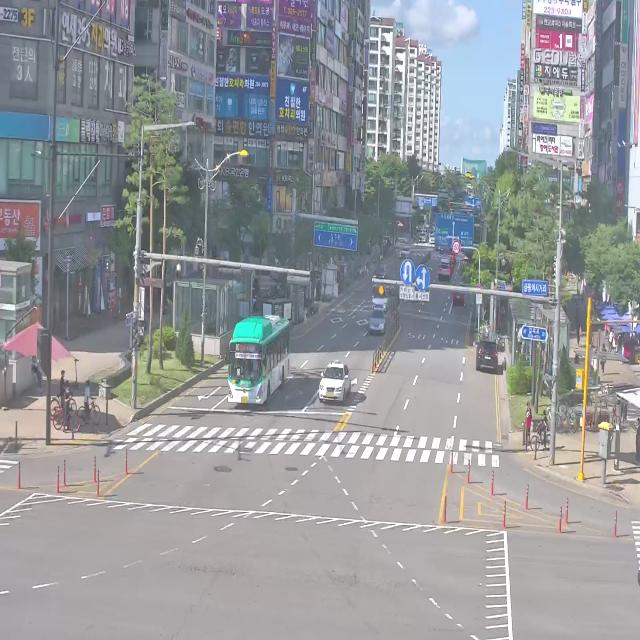Bus: (226, 292, 294, 416)
Car: (318, 359, 351, 403), (475, 341, 498, 372), (369, 284, 387, 316), (367, 262, 386, 290), (368, 307, 386, 335), (437, 252, 451, 284), (397, 239, 411, 264), (449, 287, 465, 307)
